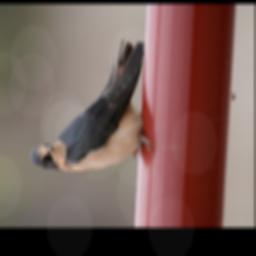Swallow: (25, 37, 167, 175)
